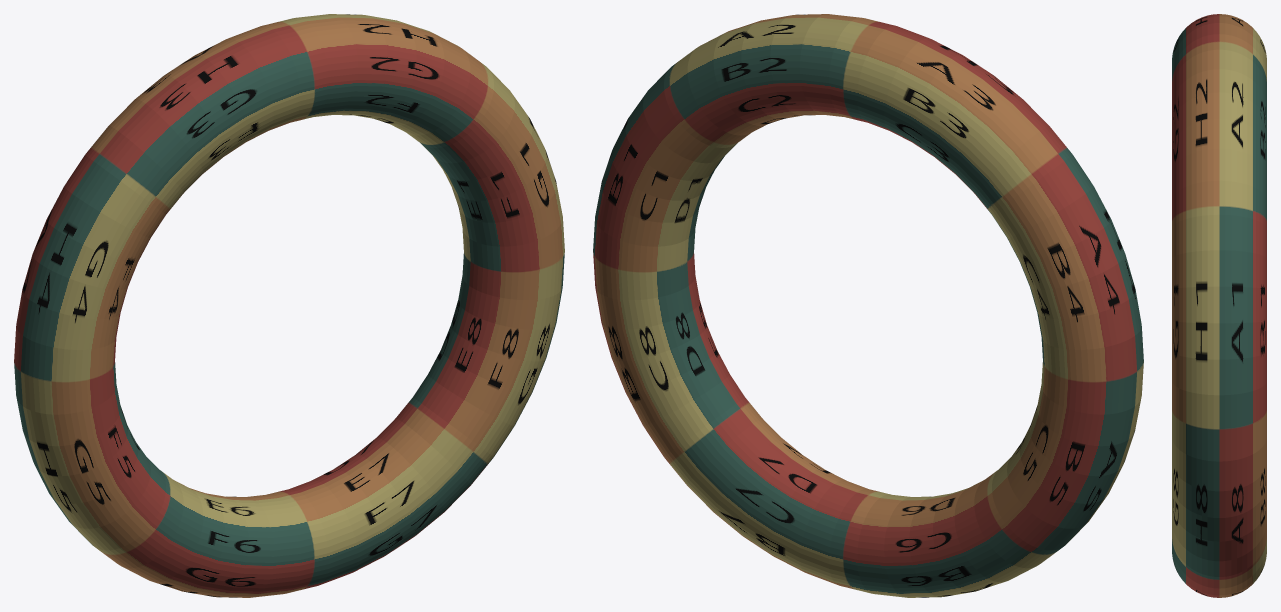
The model's file is texture_torus_R21_r10.glb.
3 views of the same model, side by side, from view 1: azimuth 30°, elevation 25°; view 2: azimuth 150°, elevation 25°; view 3: azimuth 270°, elevation 25° (orthographic). The views are drawn at different scales.
Visible parts, largest first — view 1: world; view 2: world; view 3: world.
Part boxes in pixels (left/top/right/bottom): world: left=14, top=14, right=564, bottom=597; world: left=593, top=14, right=1143, bottom=597; world: left=1172, top=14, right=1266, bottom=597.
Bounding box in the file's own units: 28.67 × 28.61 × 4.66.
Materials: 1 (1 with a texture image).
